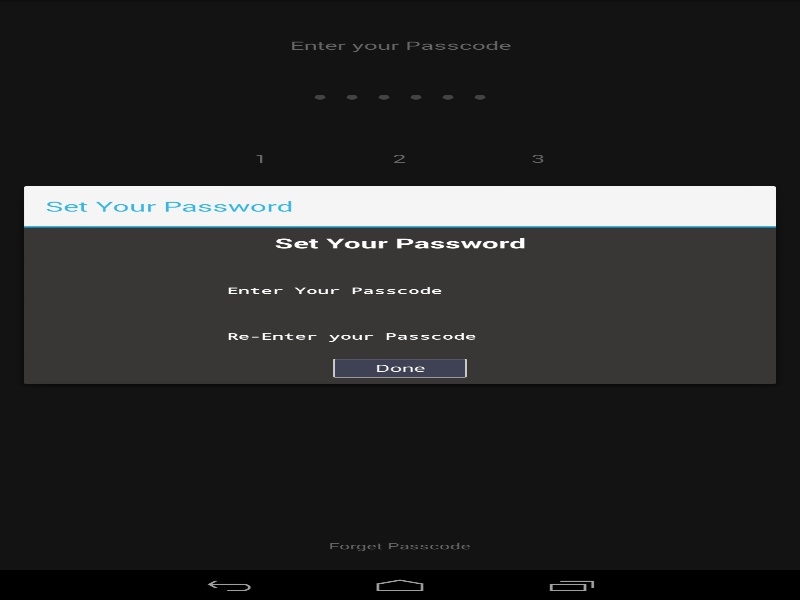Button: (333, 358, 466, 377)
Input: (213, 278, 600, 302), (213, 324, 600, 348)
